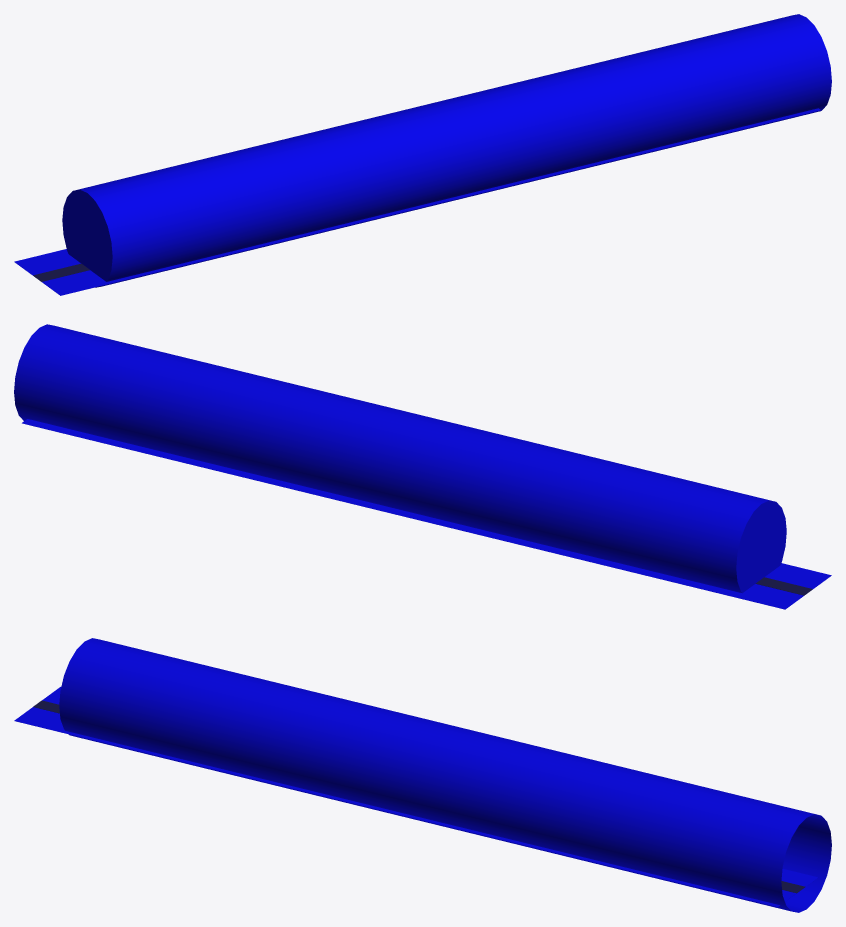
Rendered from 001_ground_and_tunnel.fbx.
The picture shows the model from 3 angles, top to bottom: view 1: azimuth 30°, elevation 25°; view 2: azimuth 150°, elevation 25°; view 3: azimuth 330°, elevation 25°; orthographic projection.
Parts seen in each view (by area): view 1: tunnel, ground; view 2: tunnel, ground; view 3: tunnel, ground.
Part boxes in pixels (x1,y1,x2,y2): tunnel: (62, 14, 831, 287); ground: (14, 108, 820, 295); tunnel: (14, 324, 786, 593); ground: (22, 419, 831, 609); tunnel: (59, 638, 831, 912); ground: (14, 687, 818, 907).
Bounding box in the file's own units: 41.78 × 4.75 × 4.75.
